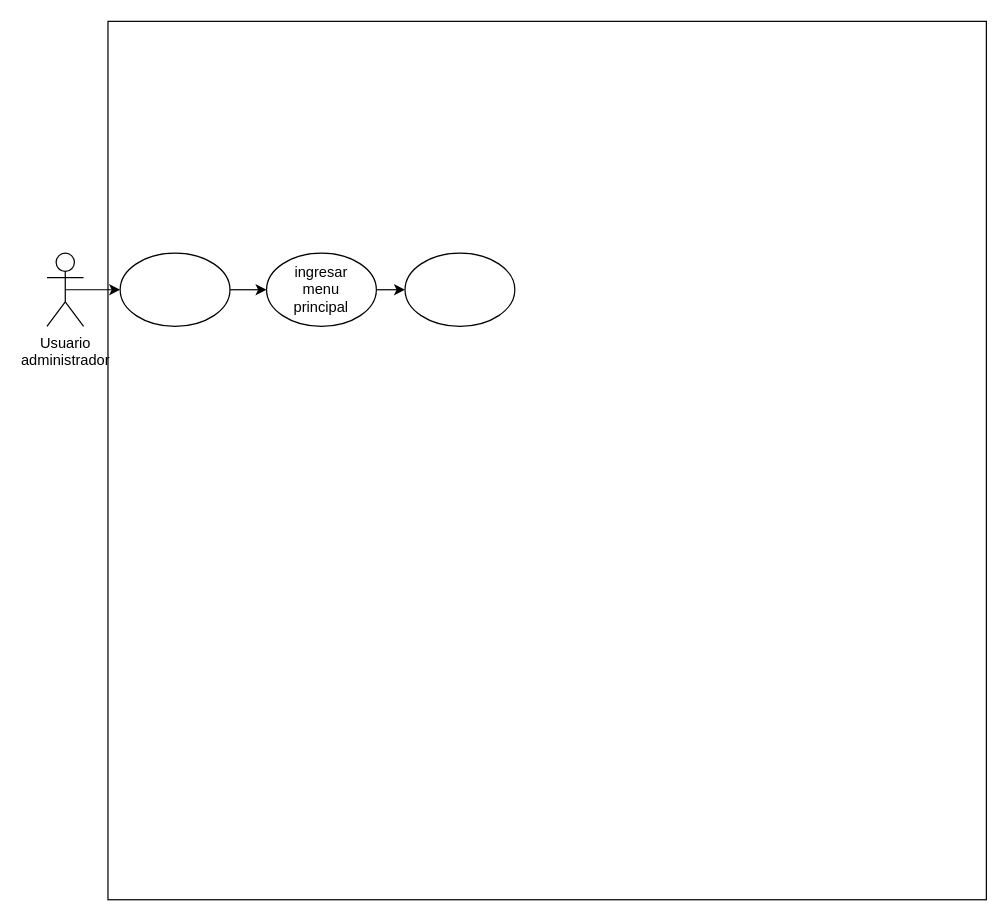
This 1008x921 diagram has some shape labels left out. The box of each missing label's shape, as (x1, y1, x2, y2) in pixels:
Iniciar sesión: (119, 252, 230, 326)
Seleccionar apartado de versiones: (404, 252, 515, 326)
